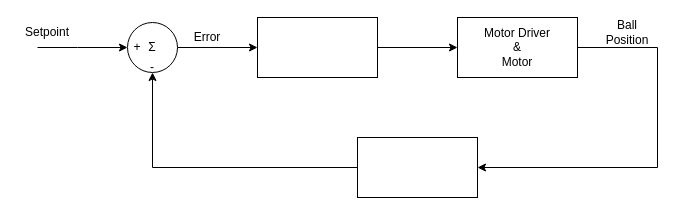
The diagram is 683 pixels wide and 215 high, and some of its shapes have lost their labels. Here are the shapes that lost their labels. From the top down, the centre of each, then its label:
the point at 317,47: PID (Arduino)
the point at 417,167: Position Sensor
